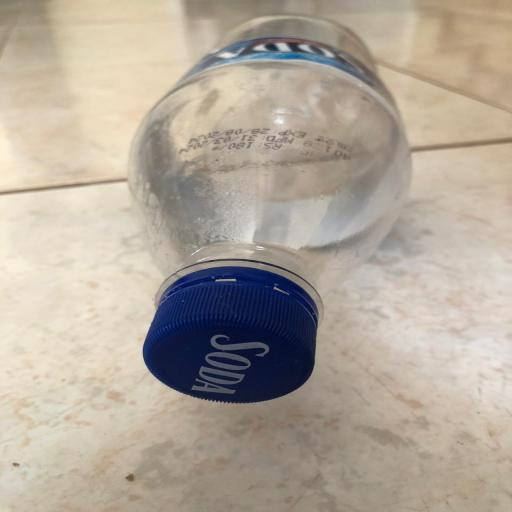waste: (105, 10, 426, 418)
